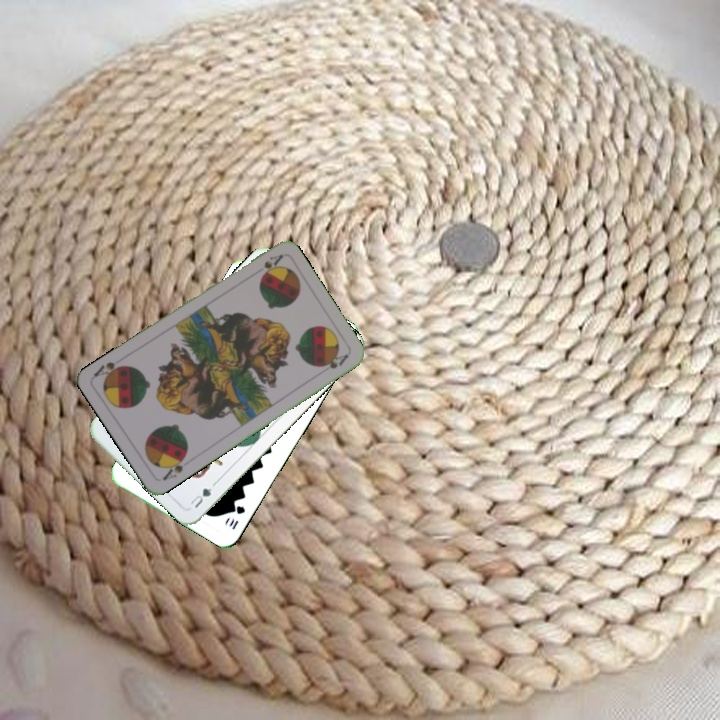G10: (225, 501, 248, 532)
GU: (186, 484, 214, 511)
SA: (158, 450, 189, 483), (249, 251, 285, 279)
